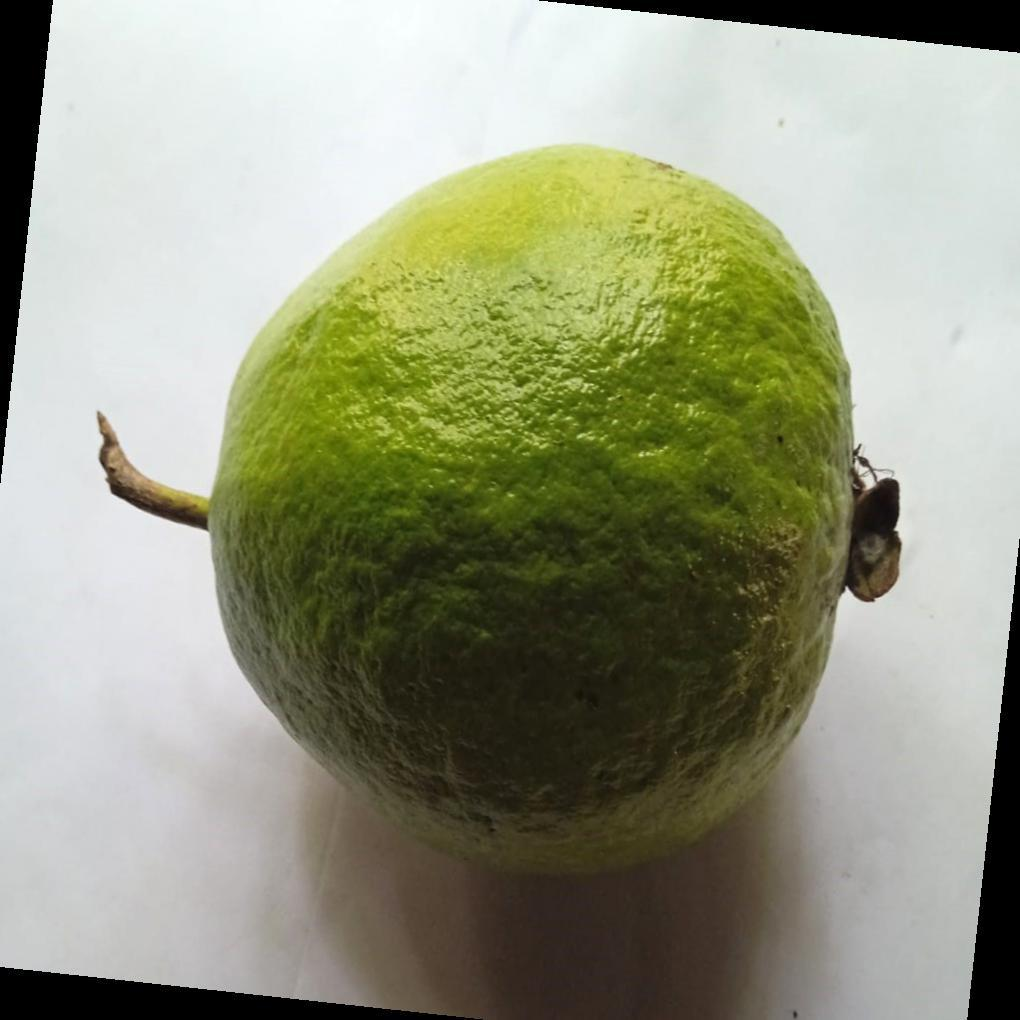FreshGuava: (158, 144, 900, 886)
